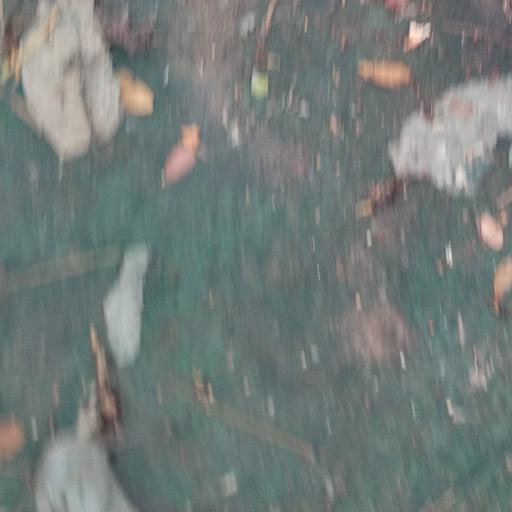algae: (27, 5, 512, 512)
